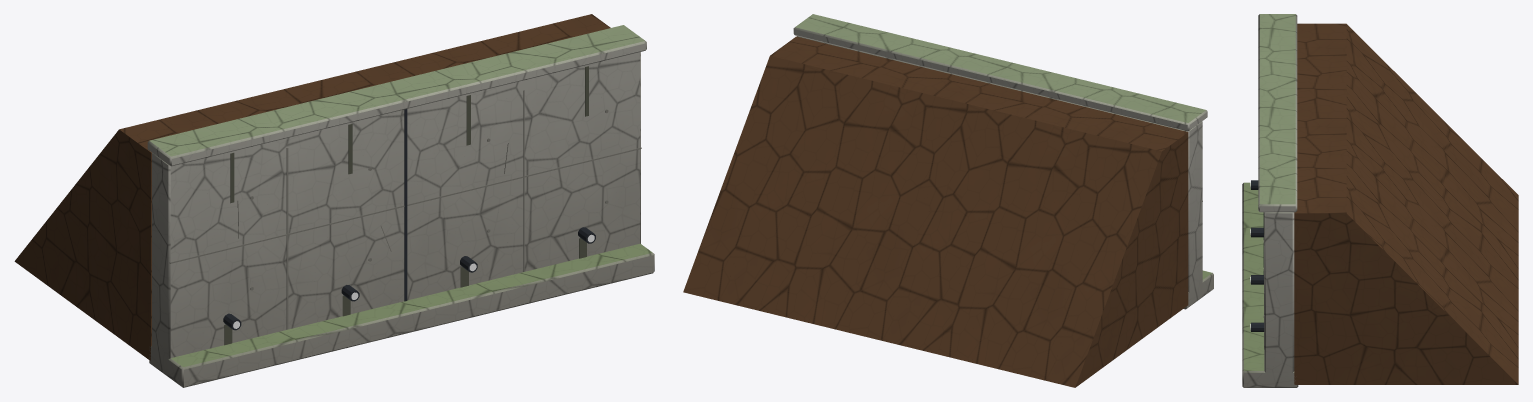
Rendered from retaining_wall_concrete.glb.
The picture shows the model from 3 angles, left to right: view 1: azimuth 30°, elevation 25°; view 2: azimuth 150°, elevation 25°; view 3: azimuth 270°, elevation 25°; orthographic projection. The views are drawn at different scales.
Visible parts, largest first — view 1: retaining_wall_concrete; view 2: retaining_wall_concrete; view 3: retaining_wall_concrete.
Part boxes in pixels (x1=…): retaining_wall_concrete: x1=14, y1=14, x2=654, y2=387; retaining_wall_concrete: x1=683, y1=14, x2=1213, y2=387; retaining_wall_concrete: x1=1242, y1=14, x2=1518, y2=387.
Size of the model in its own units: 6.06 by 2.72 by 3.7.
Materials: 7 (7 with a texture image).
